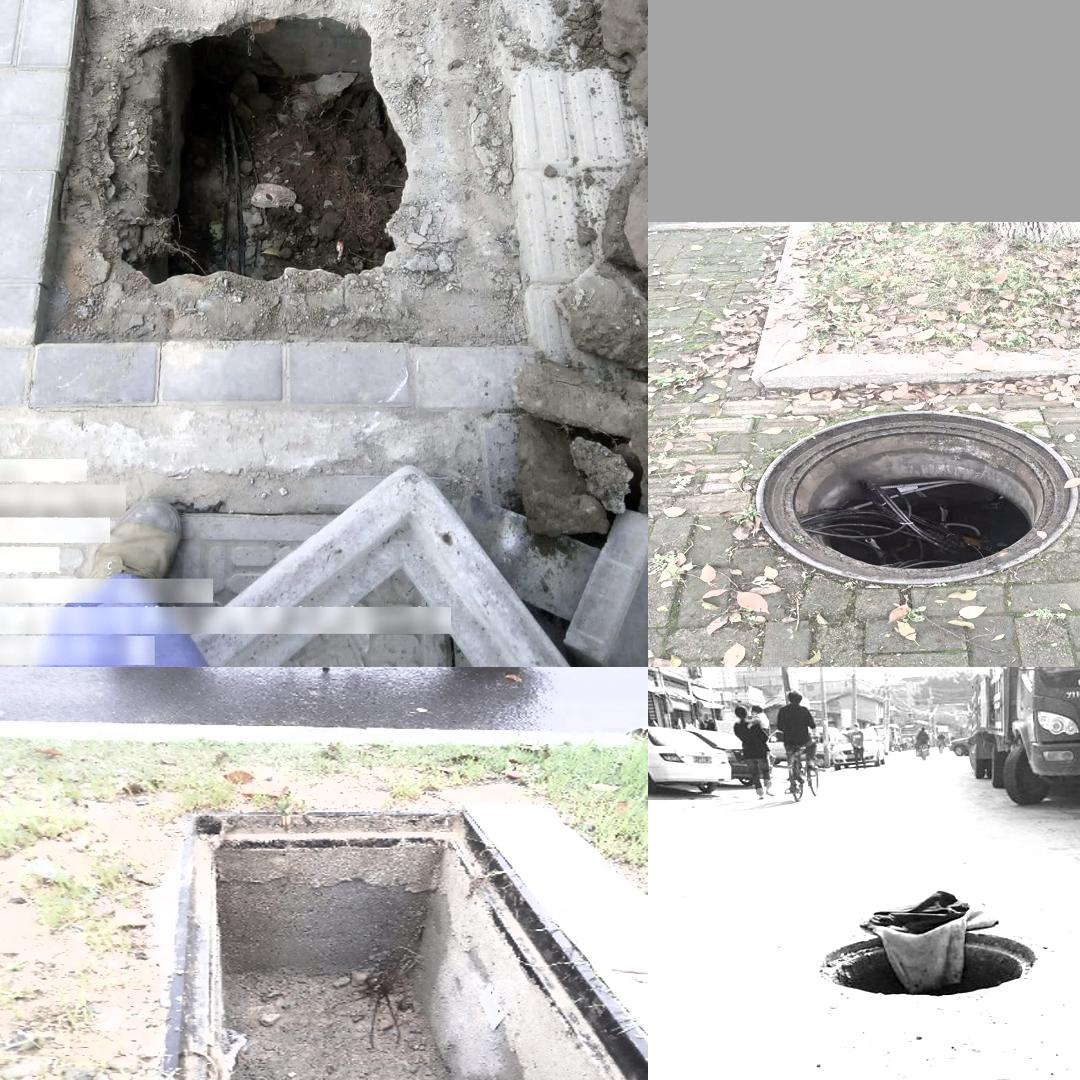lose: (33, 0, 533, 342), (147, 805, 648, 1080), (758, 410, 1078, 585), (804, 916, 1044, 1008)
